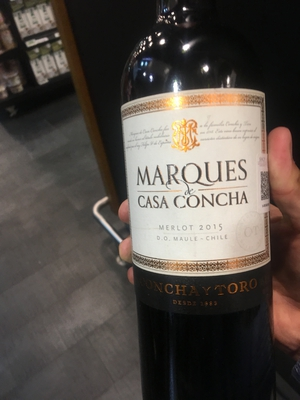marques de casa concha merlot: (103, 8, 286, 390)
